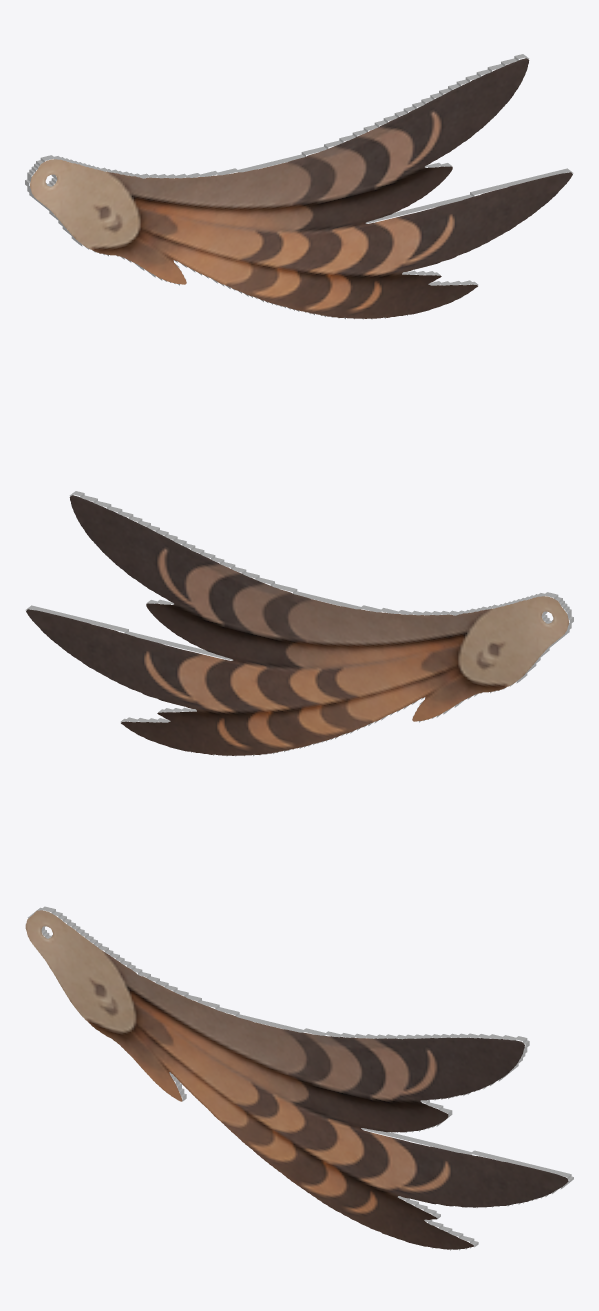
Rendered from TailFan.glb.
3 renders of one model, top to bottom at view 1: azimuth 30°, elevation 25°; view 2: azimuth 150°, elevation 25°; view 3: azimuth 330°, elevation 25°, orthographic.
Visible parts, largest first — view 1: PaperVolume; view 2: PaperVolume; view 3: PaperVolume.
Part boxes in pixels (left/top/right/bottom): PaperVolume: left=25, top=54, right=573, bottom=319; PaperVolume: left=25, top=491, right=573, bottom=756; PaperVolume: left=25, top=906, right=573, bottom=1250.
Size of the model in its own units: 6.09 by 2.74 by 0.08.
Materials: 3 (2 with a texture image).
